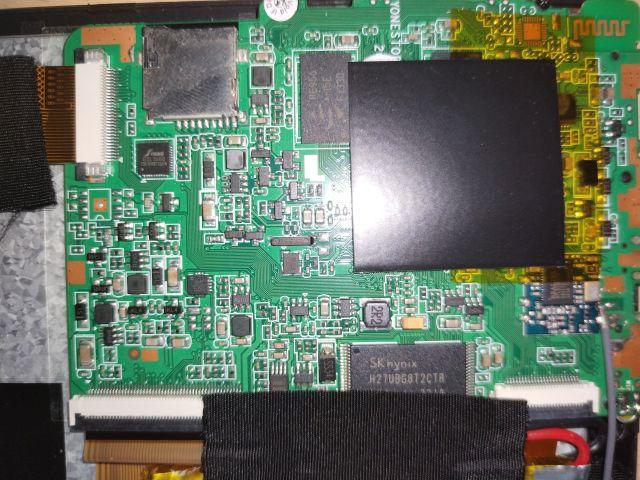capacitor: (71, 334, 101, 376), (196, 186, 222, 234), (390, 312, 429, 334), (163, 255, 182, 298), (212, 314, 230, 352), (140, 187, 158, 221), (316, 292, 335, 323), (437, 312, 463, 334), (138, 333, 168, 351), (488, 344, 507, 371), (168, 333, 198, 349), (111, 270, 128, 298), (477, 344, 492, 374), (266, 346, 294, 362), (116, 300, 131, 323), (269, 339, 295, 352)
resistor: (122, 99, 144, 122), (268, 91, 290, 106), (290, 338, 306, 356), (90, 267, 112, 280), (154, 240, 168, 260), (300, 333, 311, 358), (212, 132, 225, 153), (203, 132, 217, 150), (108, 246, 126, 260), (309, 338, 323, 356), (94, 226, 106, 246), (419, 282, 428, 304)
